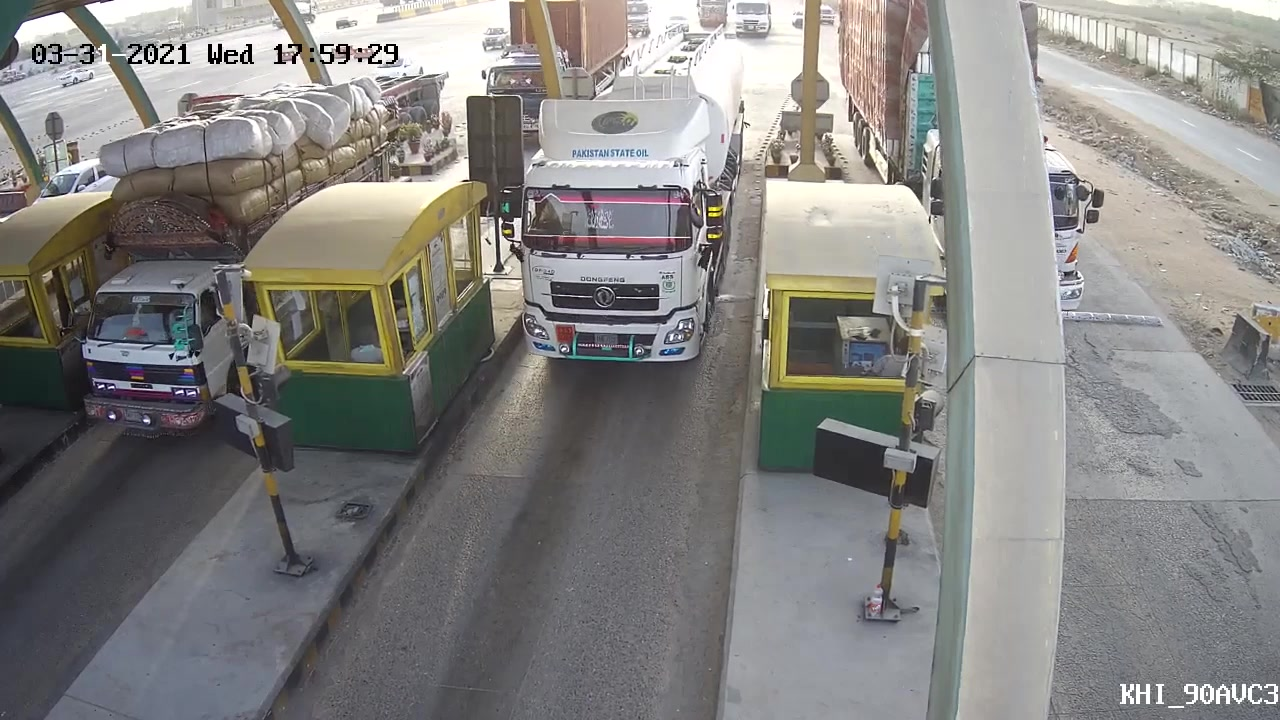F6: (502, 56, 754, 366)
